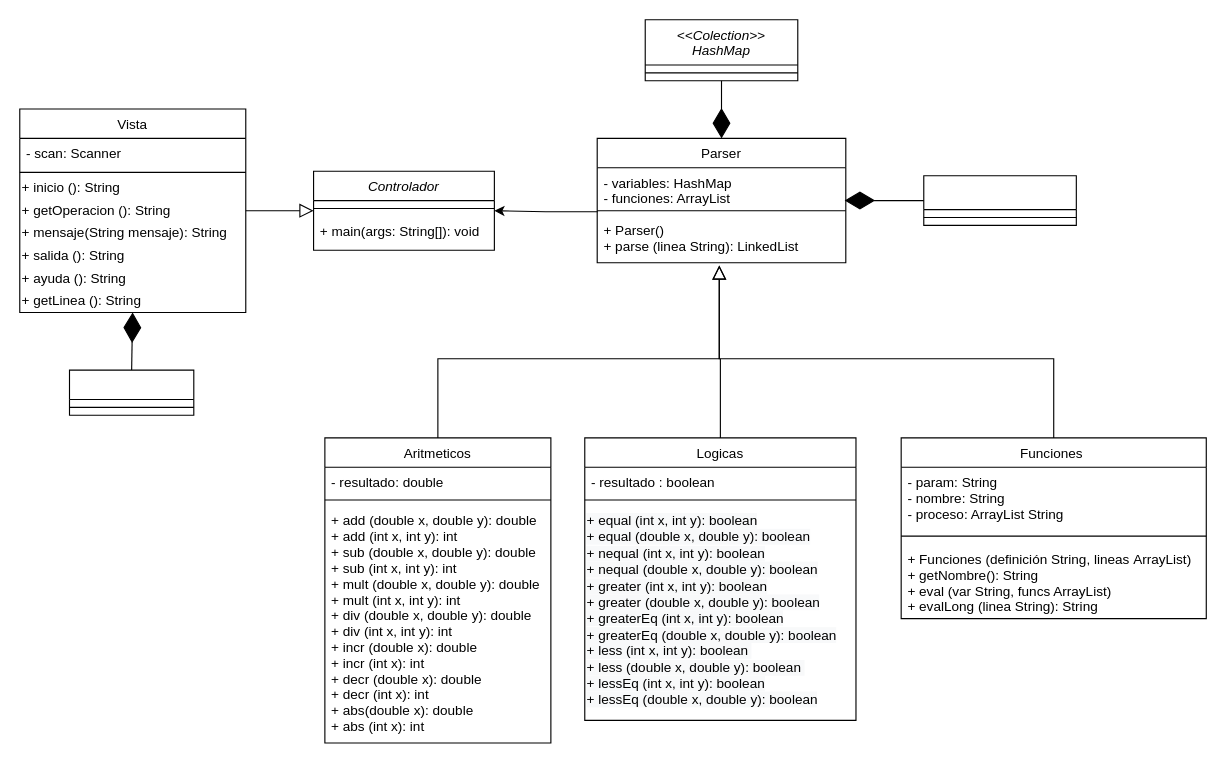
Some shapes in this 1226 by 766 pixel diagram are drawn without their labels. Here are the shapes that lost their labels. From the top down, the centre of each, then its label:
point (999, 200): ArrayList
point (131, 392): Scanner
